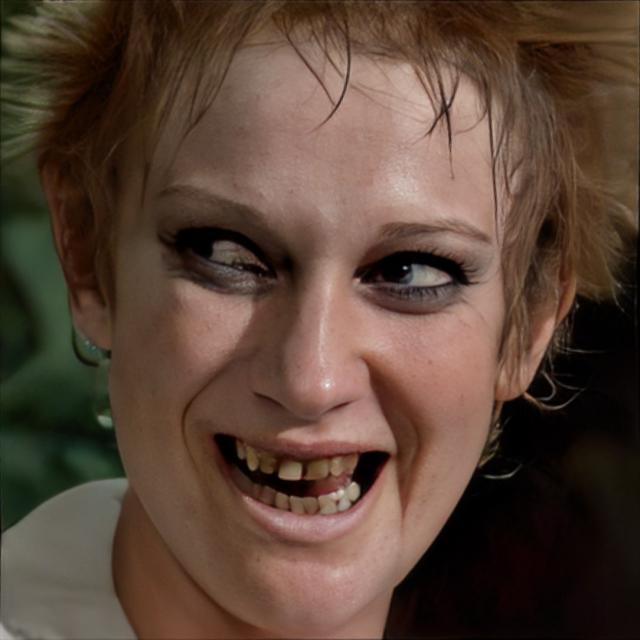anger: (109, 41, 507, 628)
